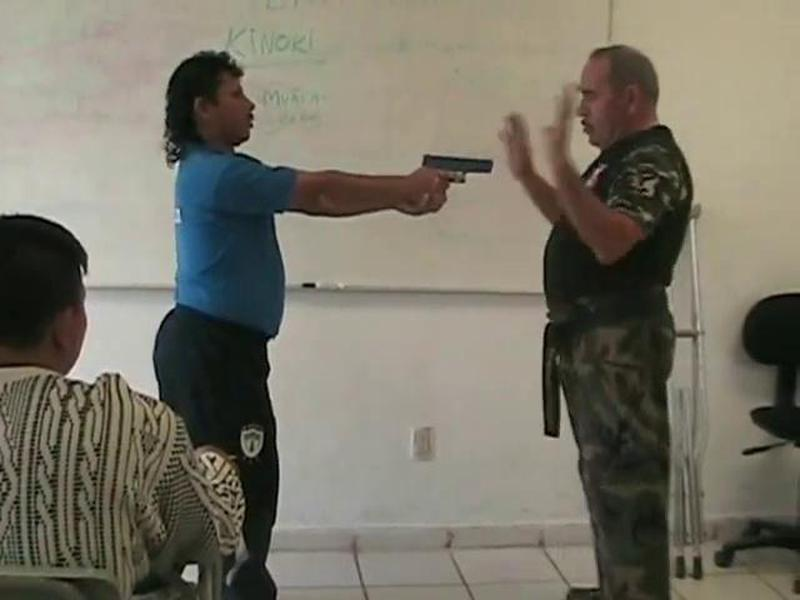Pistola: (418, 144, 497, 195)
